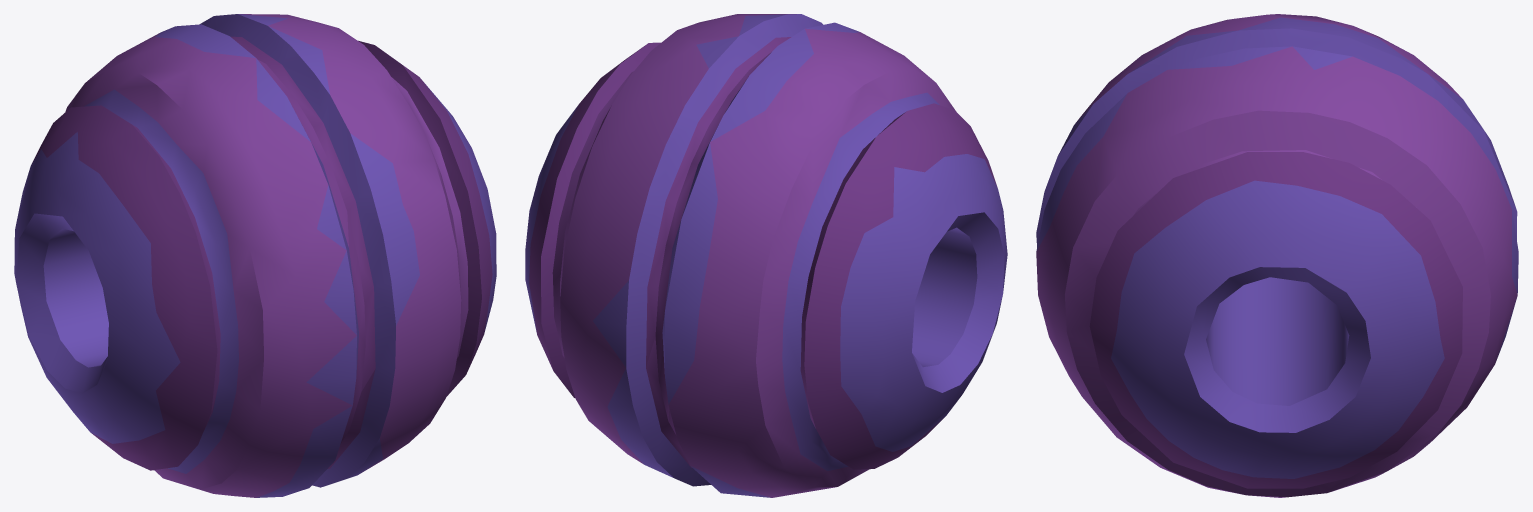
The model's file is planet-8.glb.
The picture shows the model from 3 angles, left to right: view 1: azimuth 30°, elevation 25°; view 2: azimuth 150°, elevation 25°; view 3: azimuth 270°, elevation 25°; orthographic projection.
Visible parts, largest first — view 1: Planet_8; view 2: Planet_8; view 3: Planet_8.
Part boxes in pixels (x1,y1,x2,y2): Planet_8: [14, 14, 496, 497]; Planet_8: [525, 14, 1007, 497]; Planet_8: [1036, 14, 1518, 497].
Bounding box in the file's own units: 3.45 × 3.75 × 3.75.
